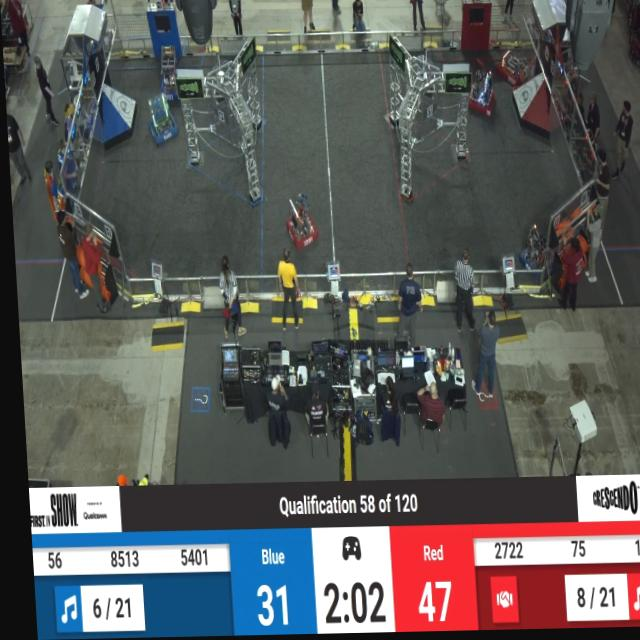Robot: (509, 213, 555, 297), (496, 30, 532, 97), (280, 193, 317, 254), (153, 37, 184, 101), (463, 64, 495, 120), (146, 94, 177, 148)
